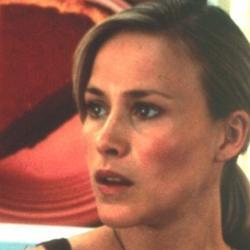face: (63, 2, 246, 231)
